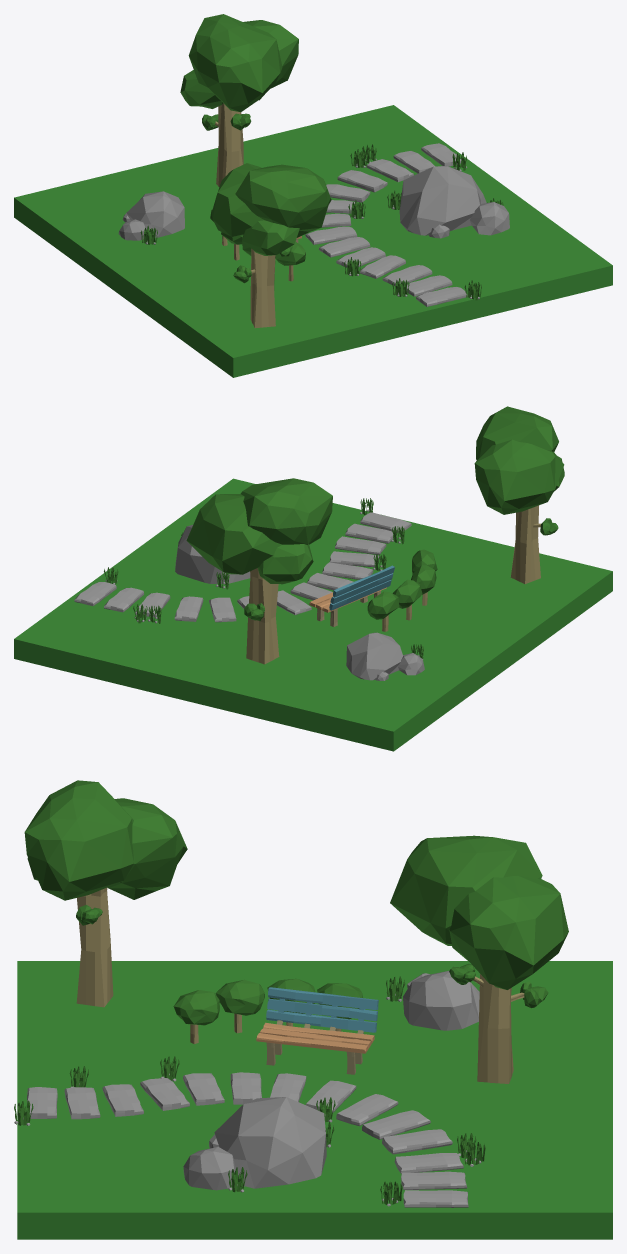
The model's file is park.glb.
3 views of the same model, one above another, from view 1: azimuth 30°, elevation 25°; view 2: azimuth 150°, elevation 25°; view 3: azimuth 270°, elevation 25° (orthographic). The views are drawn at different scales.
Visible parts, largest first — view 1: Cube.004_Material.014_0, Cube.004_Material.018_0, Cube.004_Material.024_0, Cube.004_Material.022_0, Cube.004_Material.019_0; view 2: Cube.004_Material.014_0, Cube.004_Material.018_0, Cube.004_Material.022_0, Cube.004_Material.019_0, Cube.004_Material.024_0, Cube.004_Material.041_0; view 3: Cube.004_Material.014_0, Cube.004_Material.018_0, Cube.004_Material.022_0, Cube.004_Material.024_0, Cube.004_Material.019_0, Cube.004_Material.041_0, Cube.004_Material.042_0, Cube.004_Material.043_0.
Part boxes in pixels (box(x1,y1,x2,y2)): Cube.004_Material.014_0: box(14, 105, 612, 377); Cube.004_Material.018_0: box(140, 14, 503, 300); Cube.004_Material.024_0: box(118, 166, 509, 244); Cube.004_Material.022_0: box(305, 143, 479, 306); Cube.004_Material.019_0: box(215, 103, 293, 328); Cube.004_Material.014_0: box(14, 478, 612, 751); Cube.004_Material.018_0: box(104, 406, 564, 658); Cube.004_Material.022_0: box(74, 509, 411, 623); Cube.004_Material.019_0: box(246, 505, 540, 664); Cube.004_Material.024_0: box(175, 525, 424, 680); Cube.004_Material.041_0: box(329, 565, 394, 610); Cube.004_Material.014_0: box(17, 961, 612, 1239); Cube.004_Material.018_0: box(14, 780, 568, 1204); Cube.004_Material.022_0: box(14, 1072, 481, 1207); Cube.004_Material.024_0: box(183, 971, 479, 1190); Cube.004_Material.019_0: box(76, 887, 524, 1083); Cube.004_Material.041_0: box(266, 987, 378, 1032); Cube.004_Material.042_0: box(256, 1022, 374, 1053); Cube.004_Material.043_0: box(266, 1020, 363, 1074).
Size of the model in its own units: 20 by 10.06 by 20.11.
